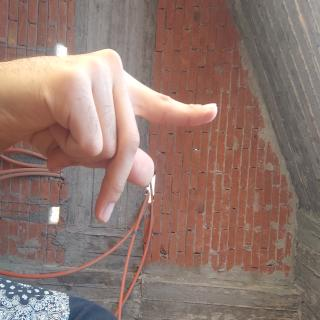DHAA: (29, 125, 170, 320)
